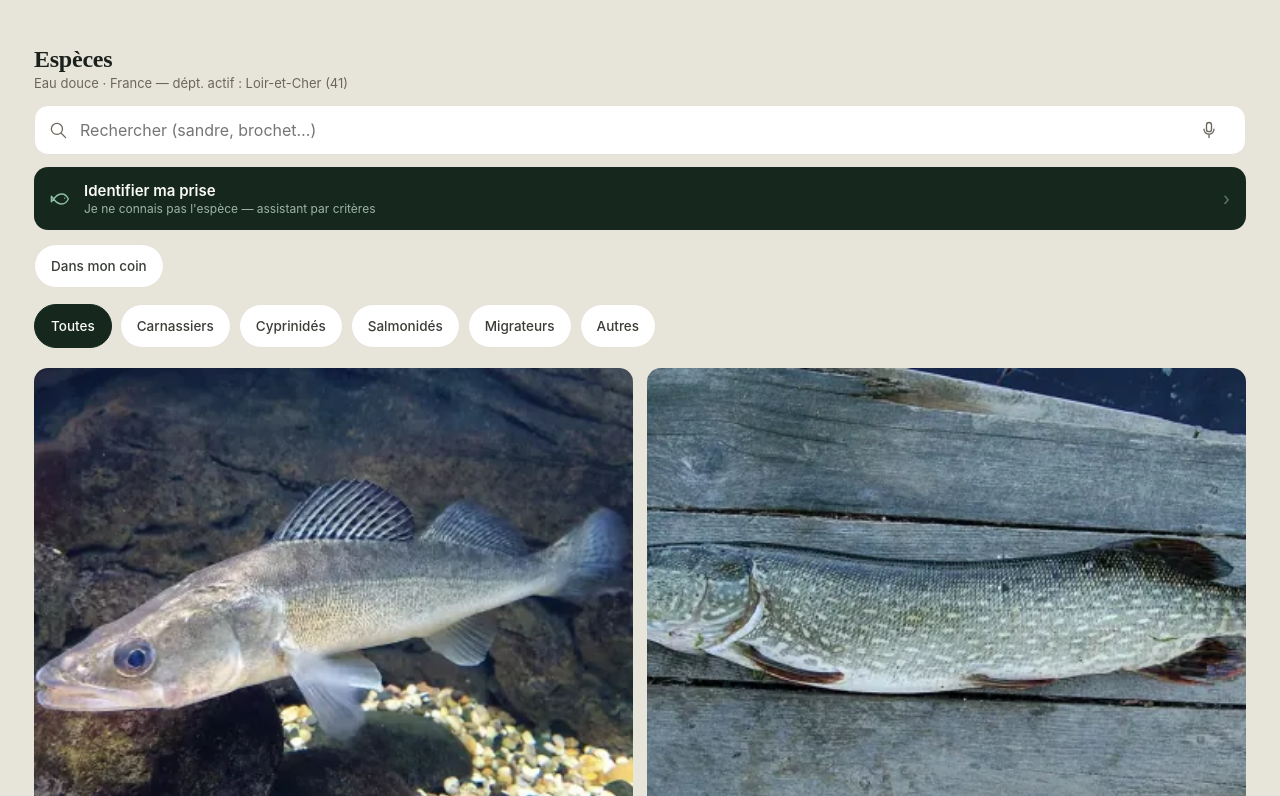
Test: Especes — filtre du coin › dit que le relevé ne contient aucune de ces espèces, plutôt que blâmer une recherche jamais faite
Click the button "Dans mon coin". click: (99, 266)
box: x1=34 y1=244 x2=164 y2=288
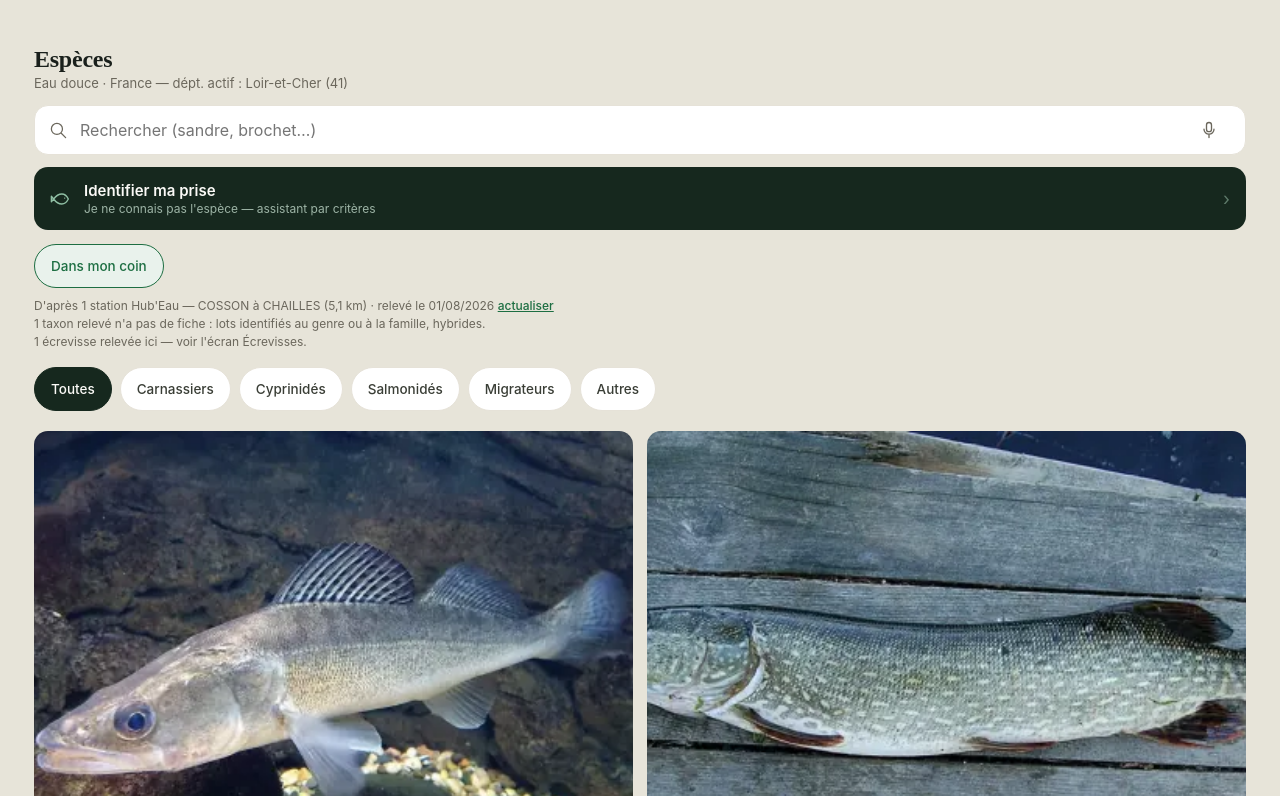
Click the button "Salmonidés". click: (405, 389)
box: x1=351 y1=367 x2=460 y2=411
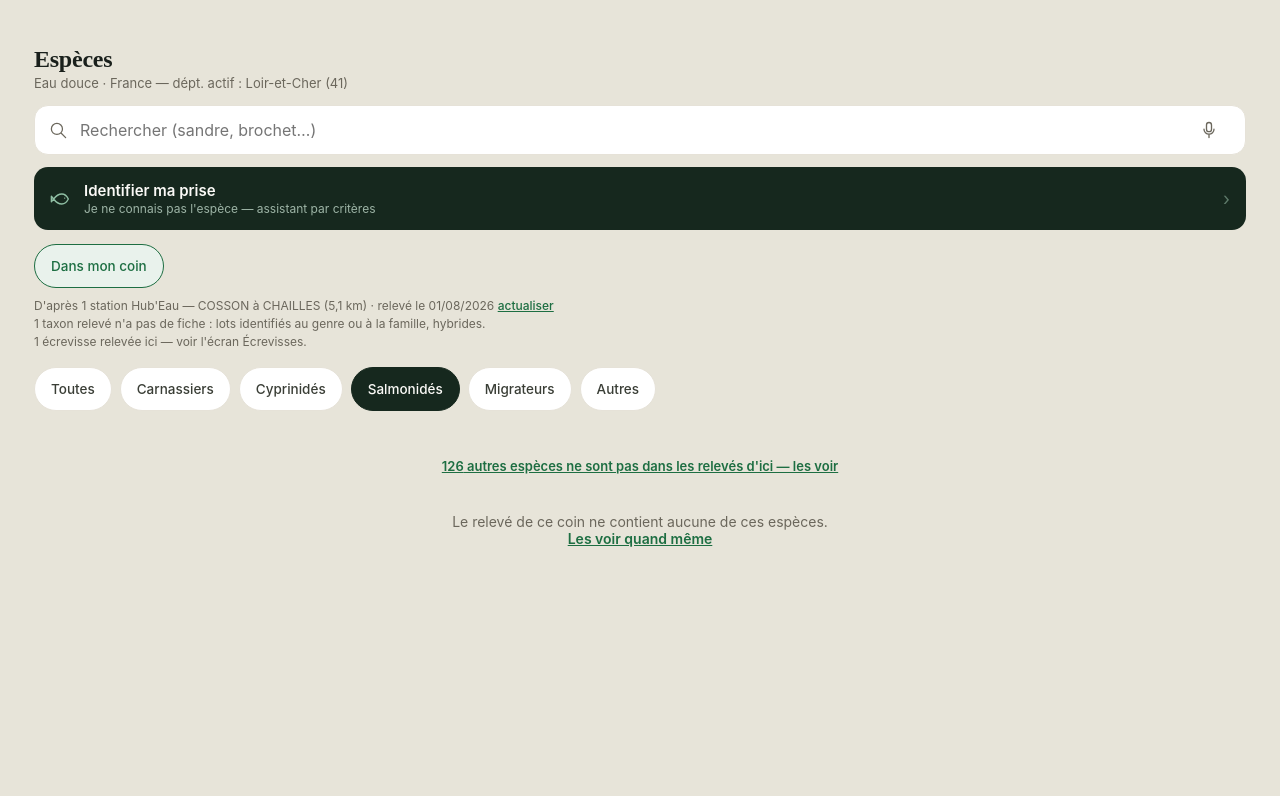
expect the text "Le relevé de ce coin ne contient aucune de ces espèces" is shown: met, box x1=452 y1=512 x2=828 y2=530
Click the button "Les voir quand même". click: (640, 538)
box: x1=568 y1=530 x2=712 y2=546
(page scrolled)
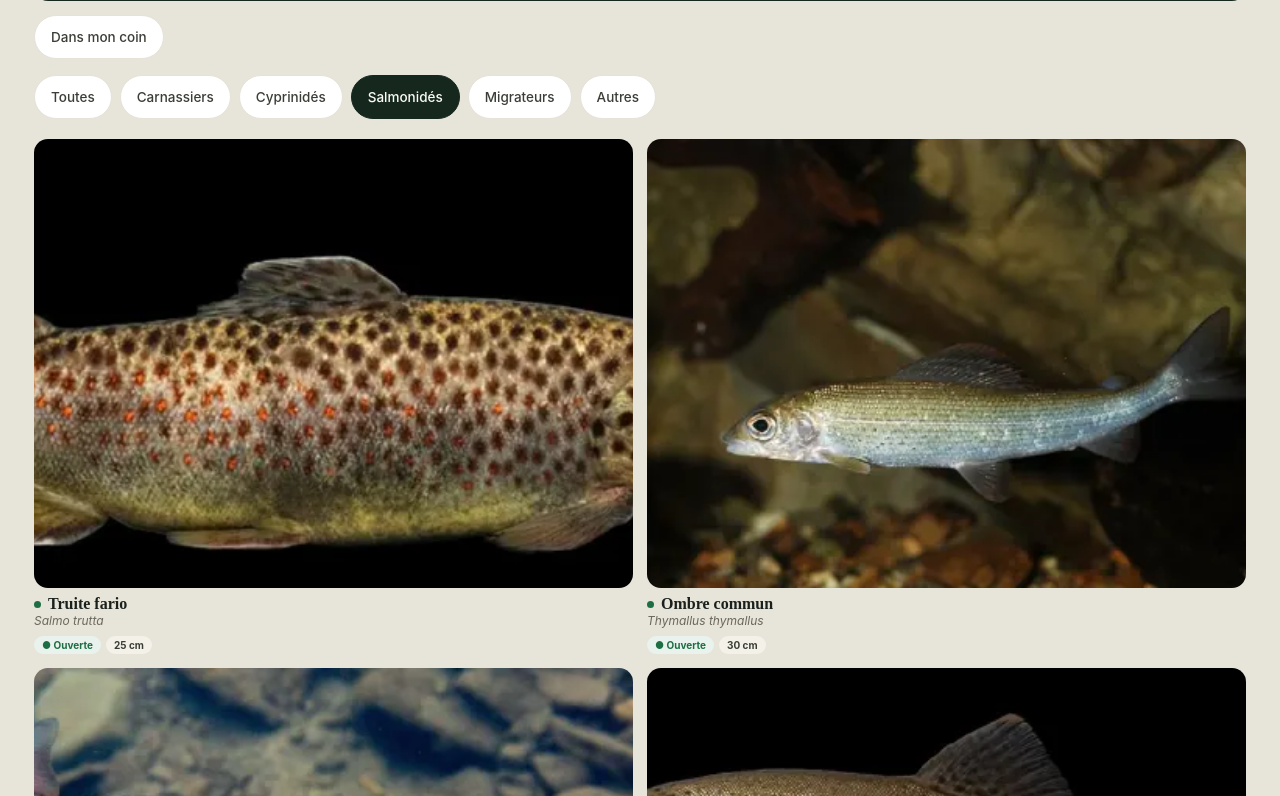
expect the button with aria-label "Fiche Truite fario" is shown: met, box x1=34 y1=139 x2=633 y2=654
